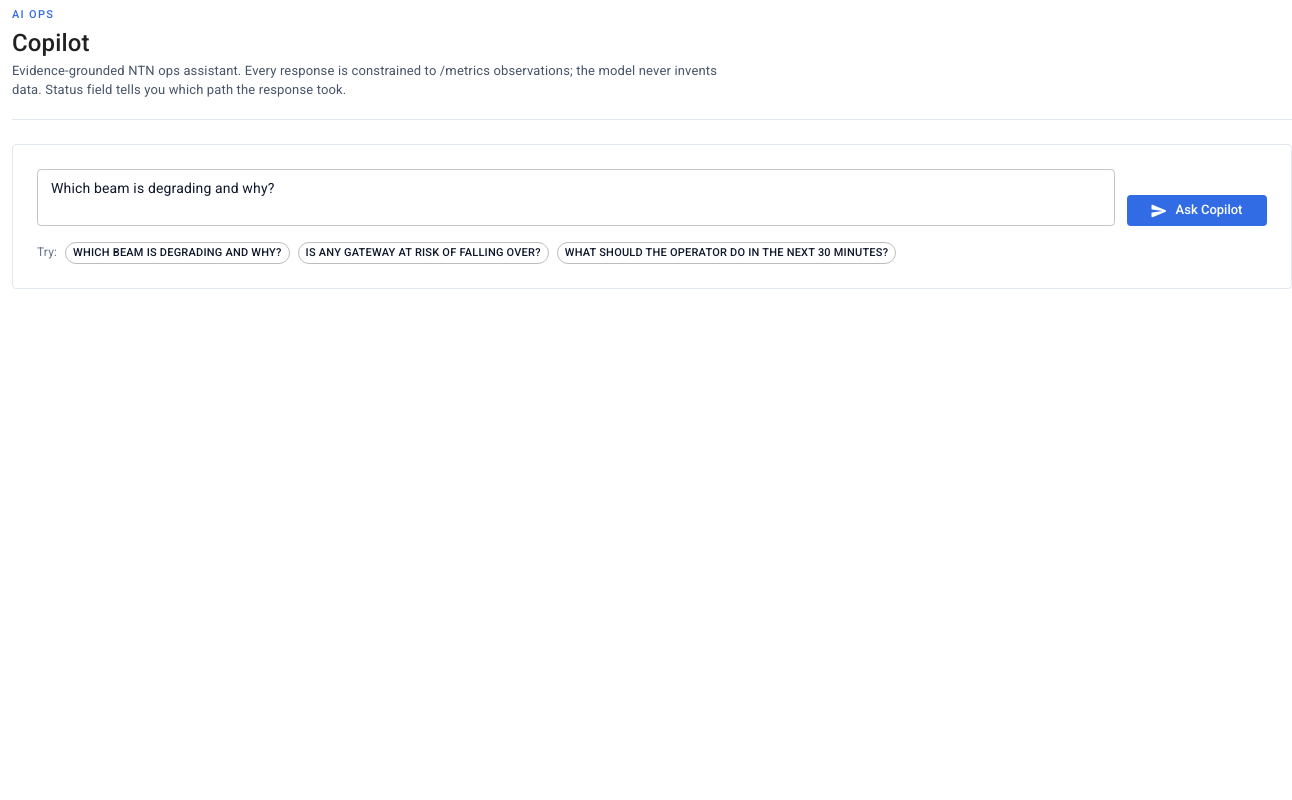
Test: Copilot — H.1.4 risk_if_ignored + evidence metadata › when risk_if_ignored is null, the section is NOT rendered
The image size is (1292, 800).
What coordinates should you click on to do the following:
click the button "Ask Copilot"
I would click on:
 (1197, 211)
Its box is x1=1127 y1=196 x2=1267 y2=226.
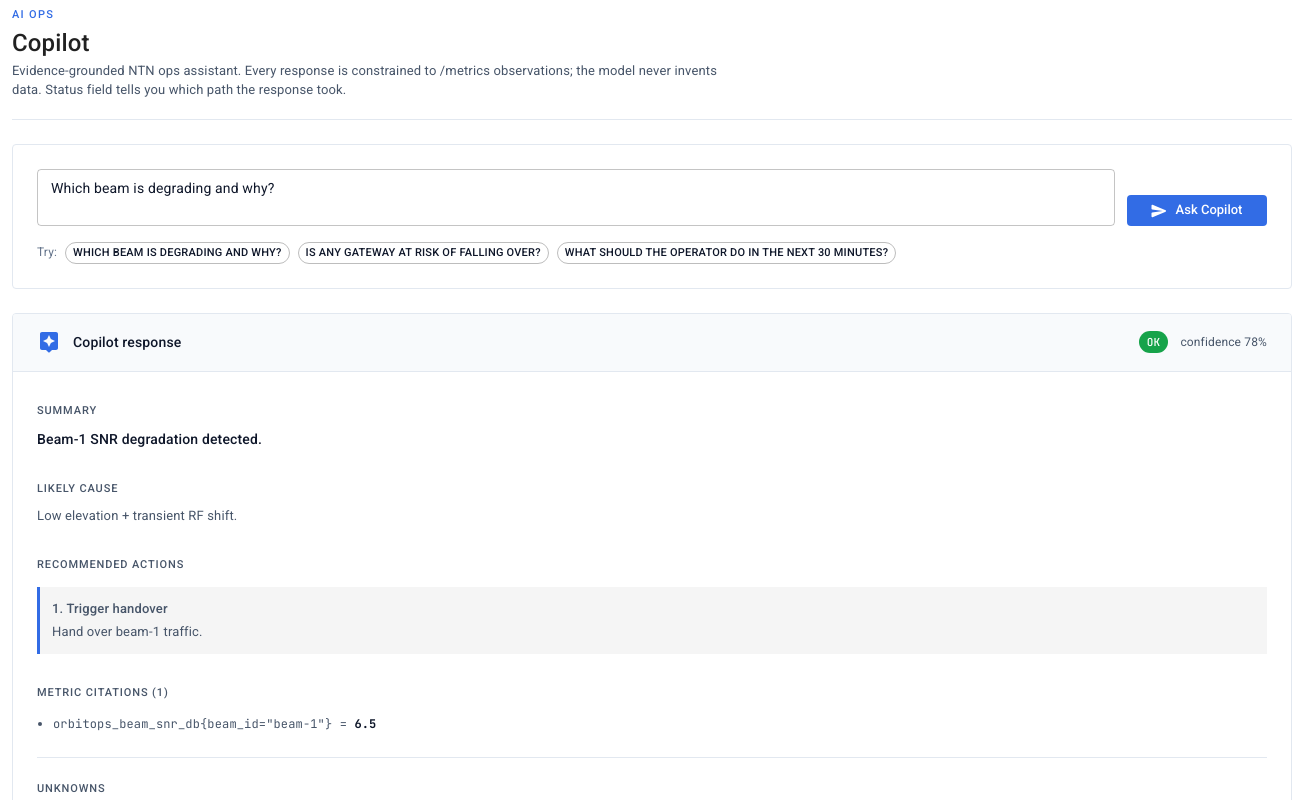
Expected: the text "Beam-1 SNR degradation detected." is shown, x1=37 y1=431 x2=262 y2=447
